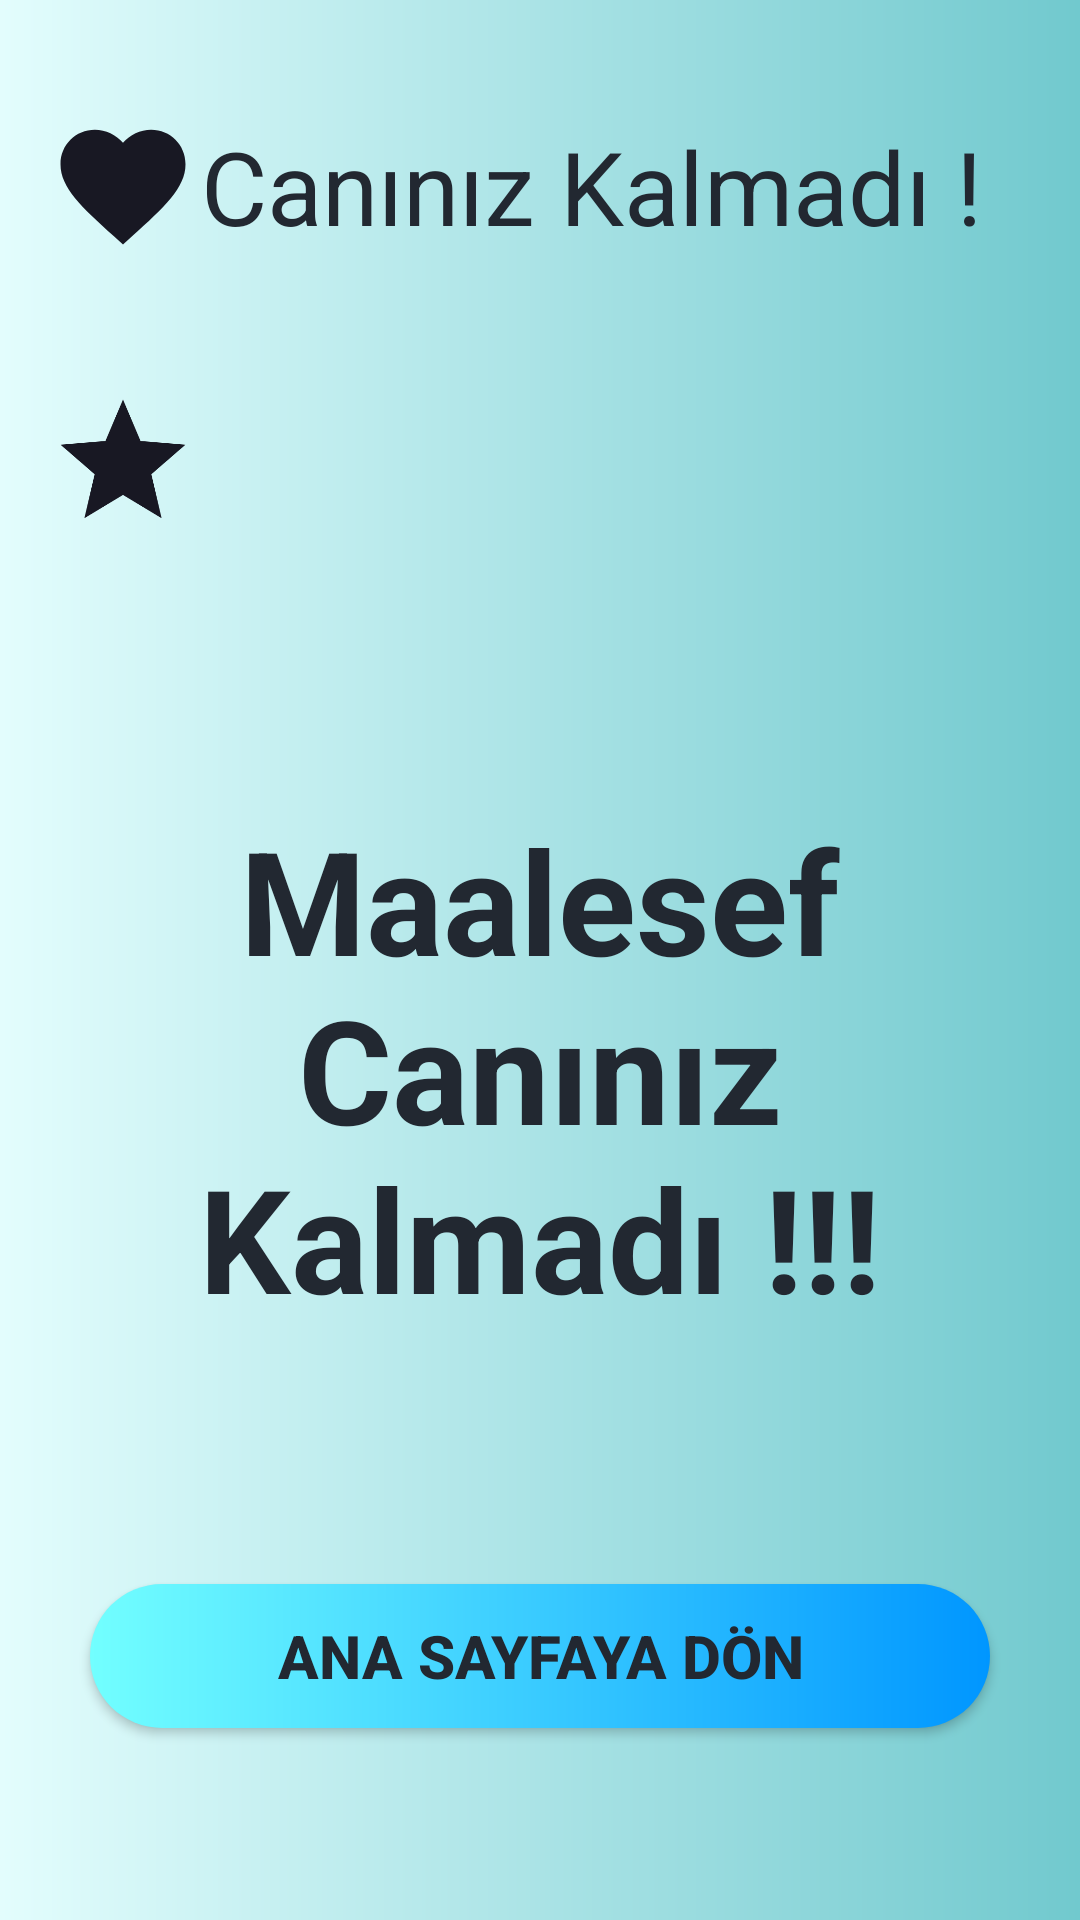

Icon click points for this 1080px×1920px phone screenshot, format (x=x, y=y):
favorite: (x=123, y=187)
grade: (x=123, y=459)
